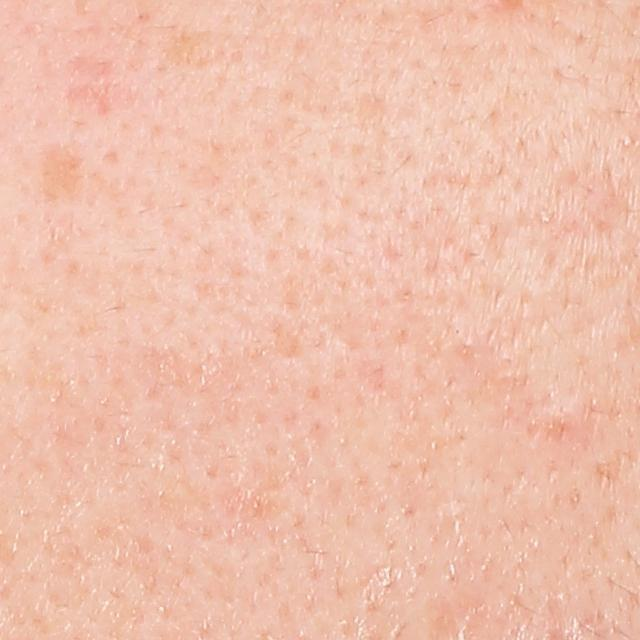atrophic_scar: (67, 52, 114, 83)
